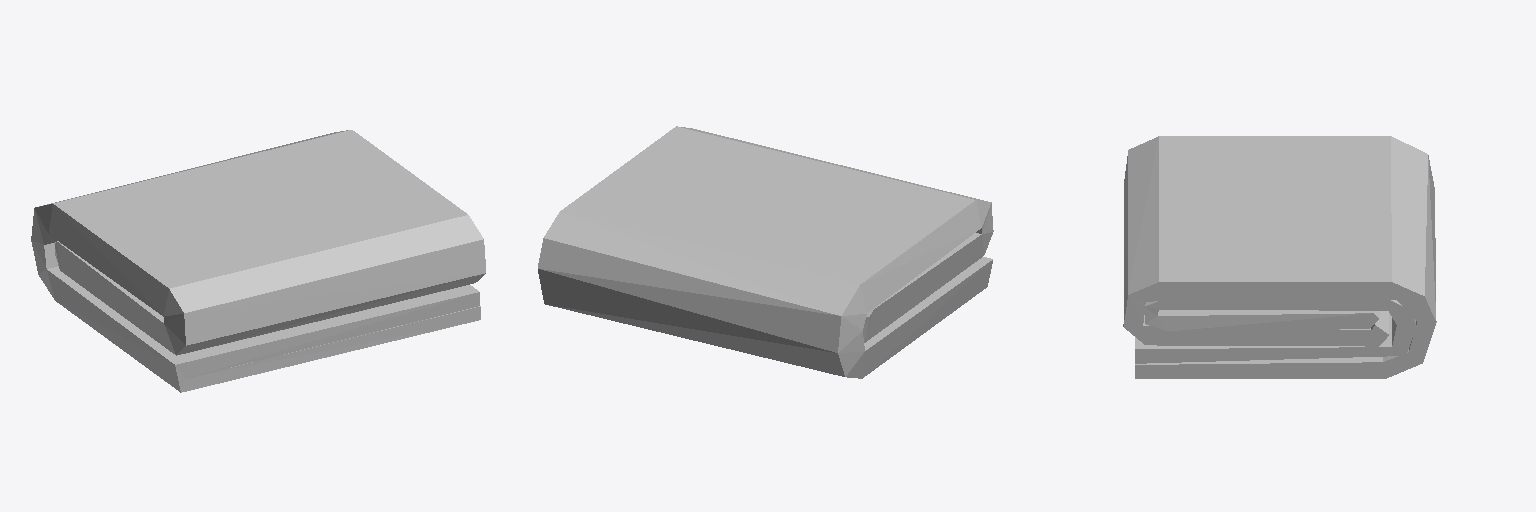
The model's file is towel3.obj.
The picture shows the model from 3 angles: view 1: azimuth 30°, elevation 25°; view 2: azimuth 150°, elevation 25°; view 3: azimuth 270°, elevation 25°; orthographic projection.
Parts seen in each view (by area): view 1: Plane_Plane.001; view 2: Plane_Plane.001; view 3: Plane_Plane.001.
Part boxes in pixels (x1,y1,x2,y2): Plane_Plane.001: (31, 130, 485, 392); Plane_Plane.001: (538, 126, 993, 378); Plane_Plane.001: (1123, 136, 1436, 378).
Bounding box in the file's own units: 3.06 × 0.9213 × 2.7.